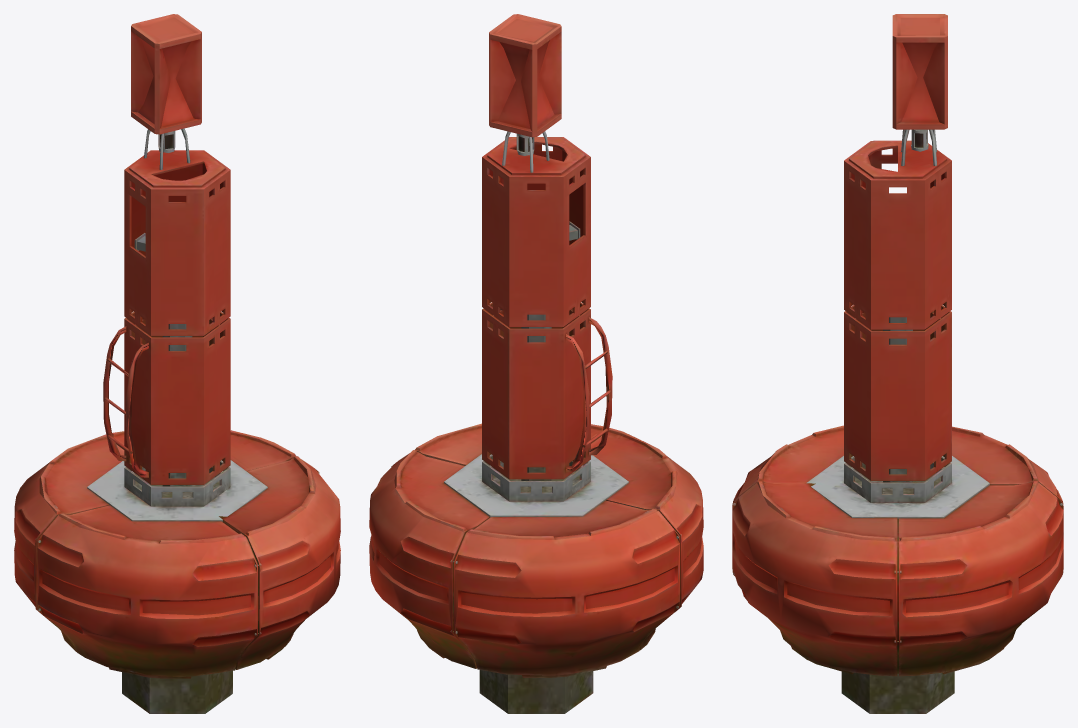
File: lateral_sea_marker.glb
3 views of the same model, side by side, from view 1: azimuth 30°, elevation 25°; view 2: azimuth 150°, elevation 25°; view 3: azimuth 270°, elevation 25° (orthographic). The views are drawn at different scales.
Parts seen in each view (by area): view 1: lateral_sea_marker; view 2: lateral_sea_marker; view 3: lateral_sea_marker.
Part boxes in pixels (<box>): lateral_sea_marker: <box>14,14,340,713</box>; lateral_sea_marker: <box>369,14,703,713</box>; lateral_sea_marker: <box>732,14,1063,713</box>.
Size of the model in its own units: 3 by 6.84 by 3.
1 material, 1 textured.
